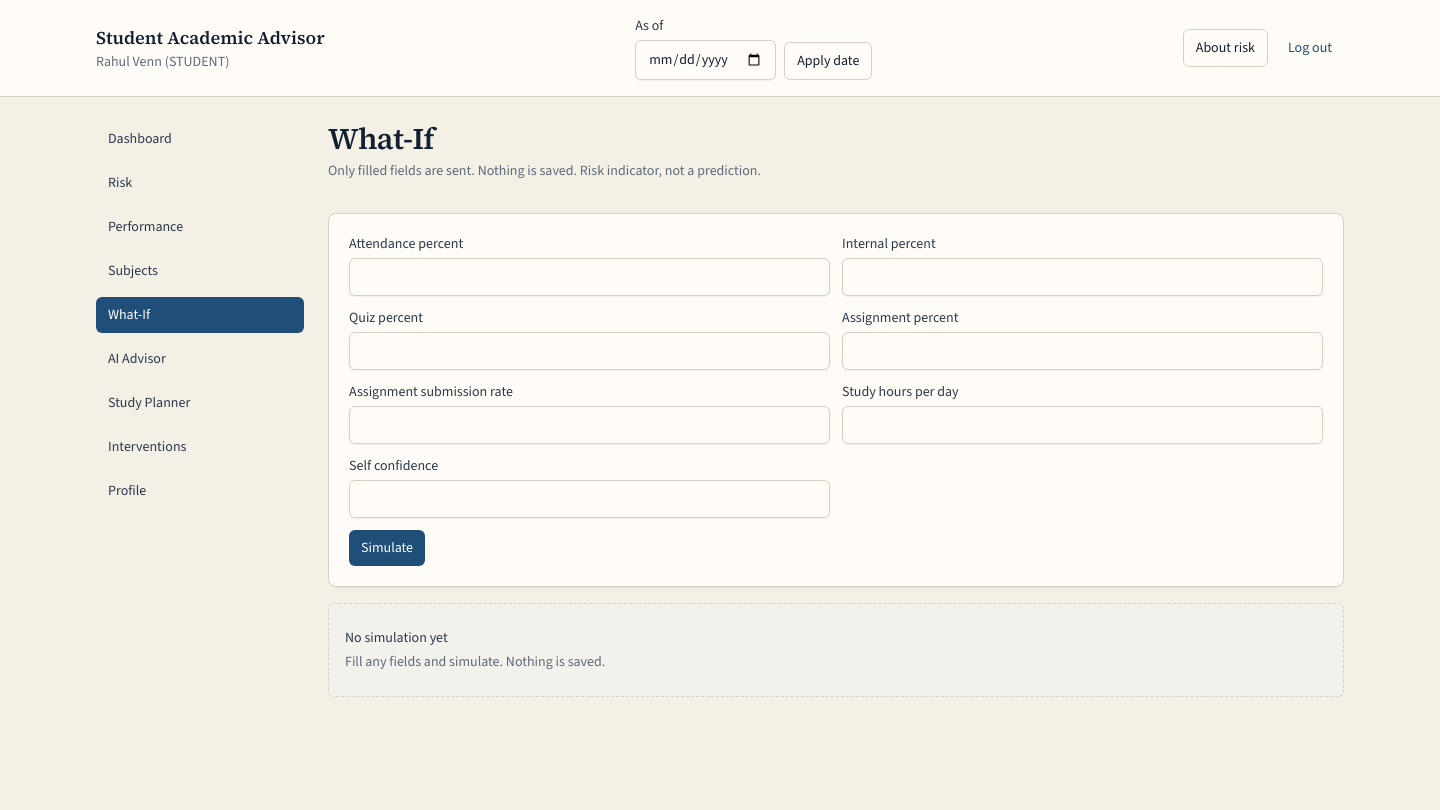
Scenario: What-If page › shows an API error
Expected: the heading "What-If" is shown, [328,118,434,159]
Type "200" into the field labelled "Attendance percent" at (590, 277), box [349,258,830,296]
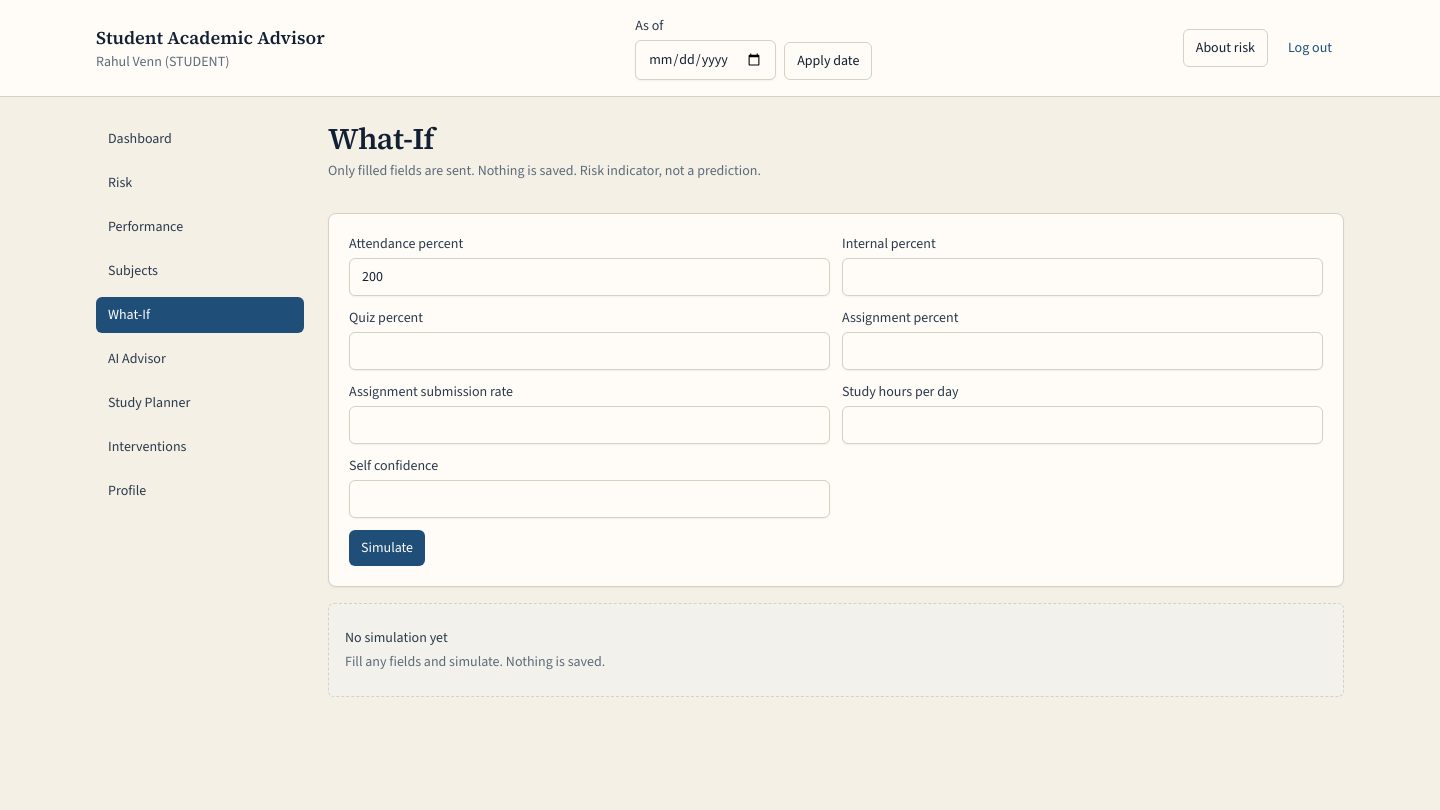
Click the button "Simulate" at (387, 548), box [349,530,425,566]
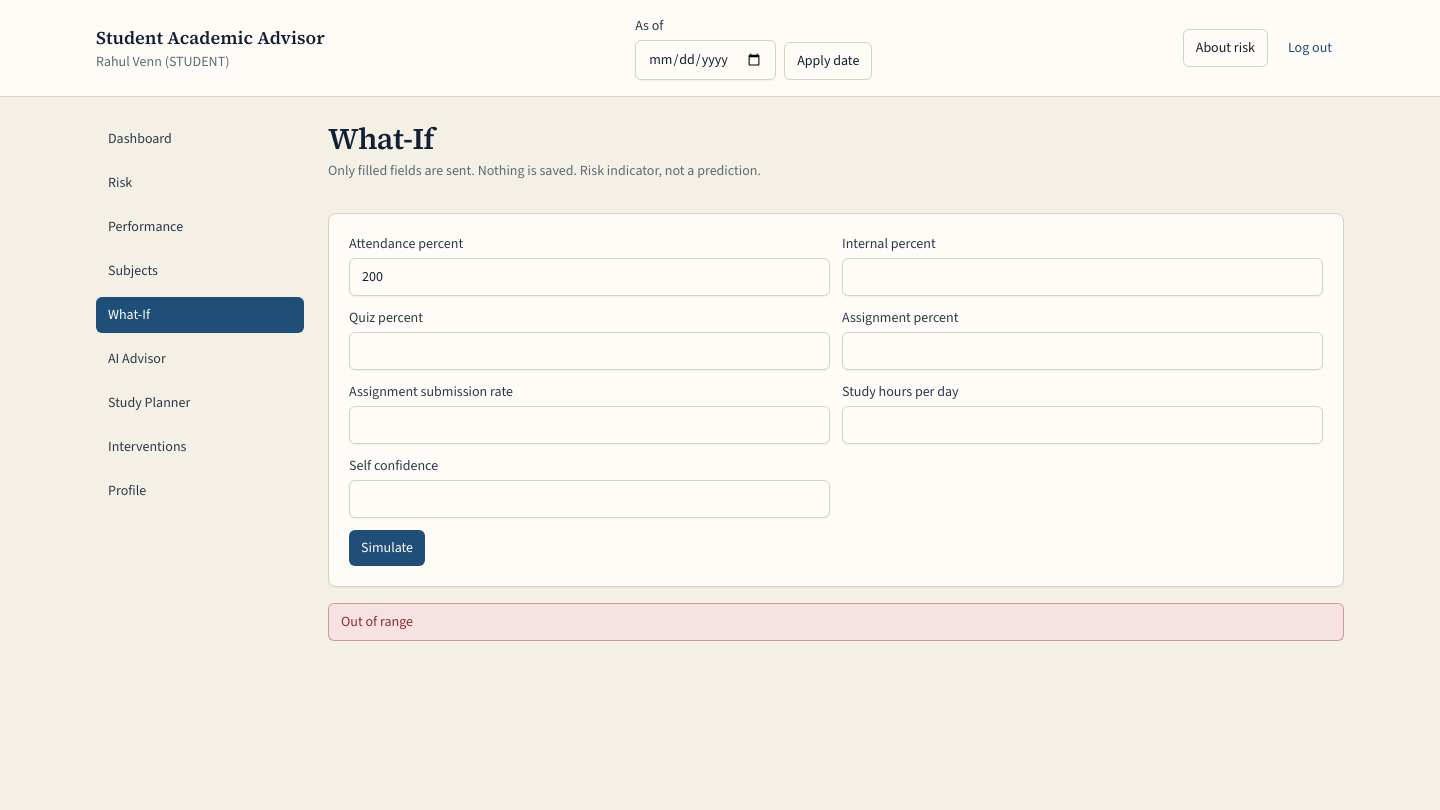
Expected: the message reads "Out of range", [341,612,413,631]
